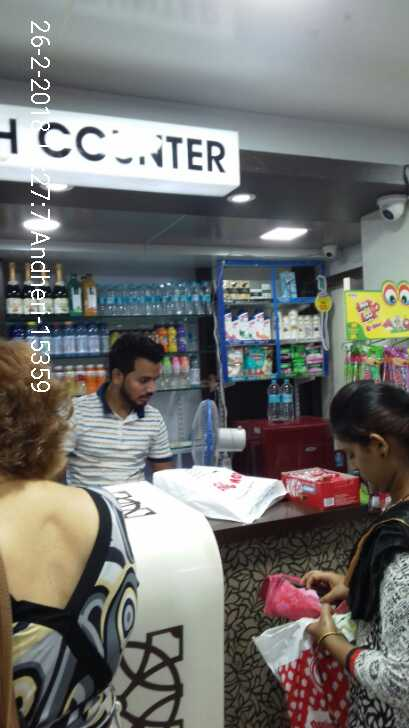venus: (283, 272, 298, 297)
